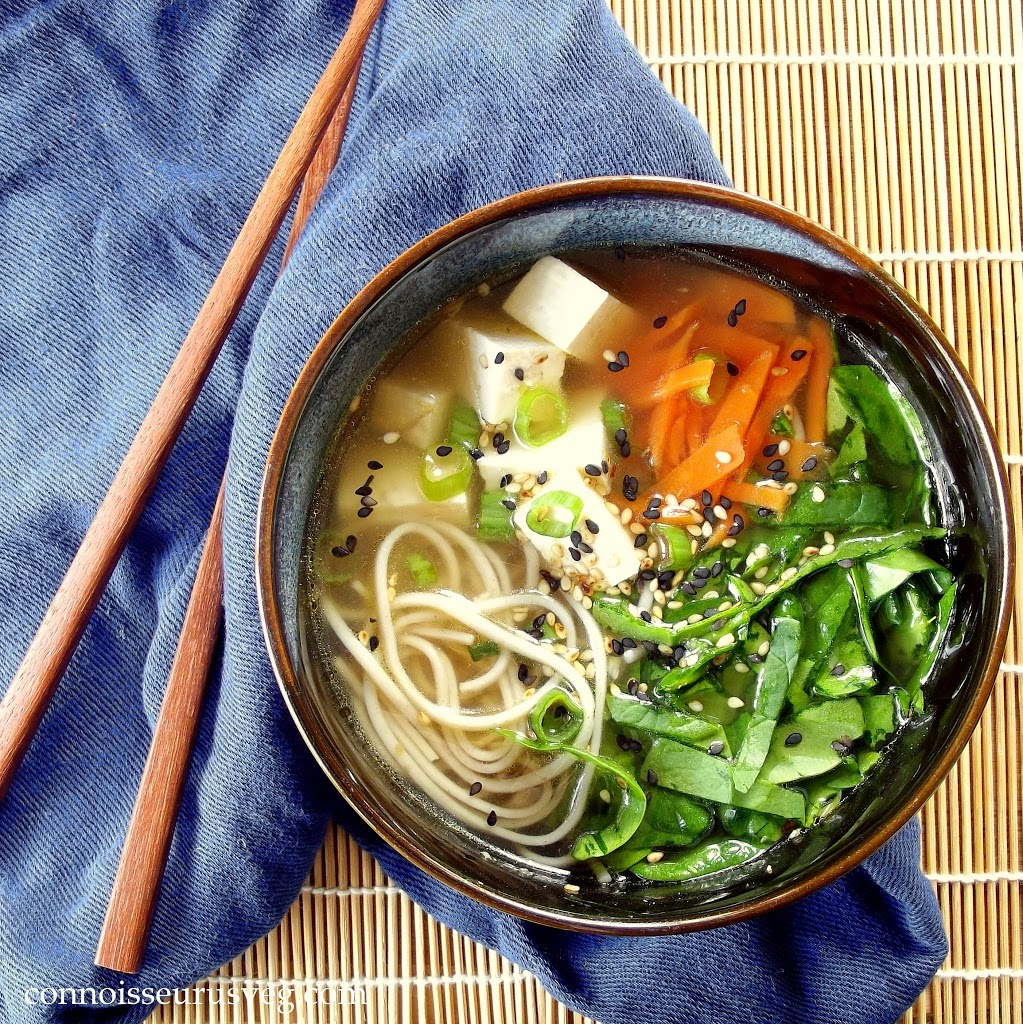Soba: (352, 423, 626, 856)
